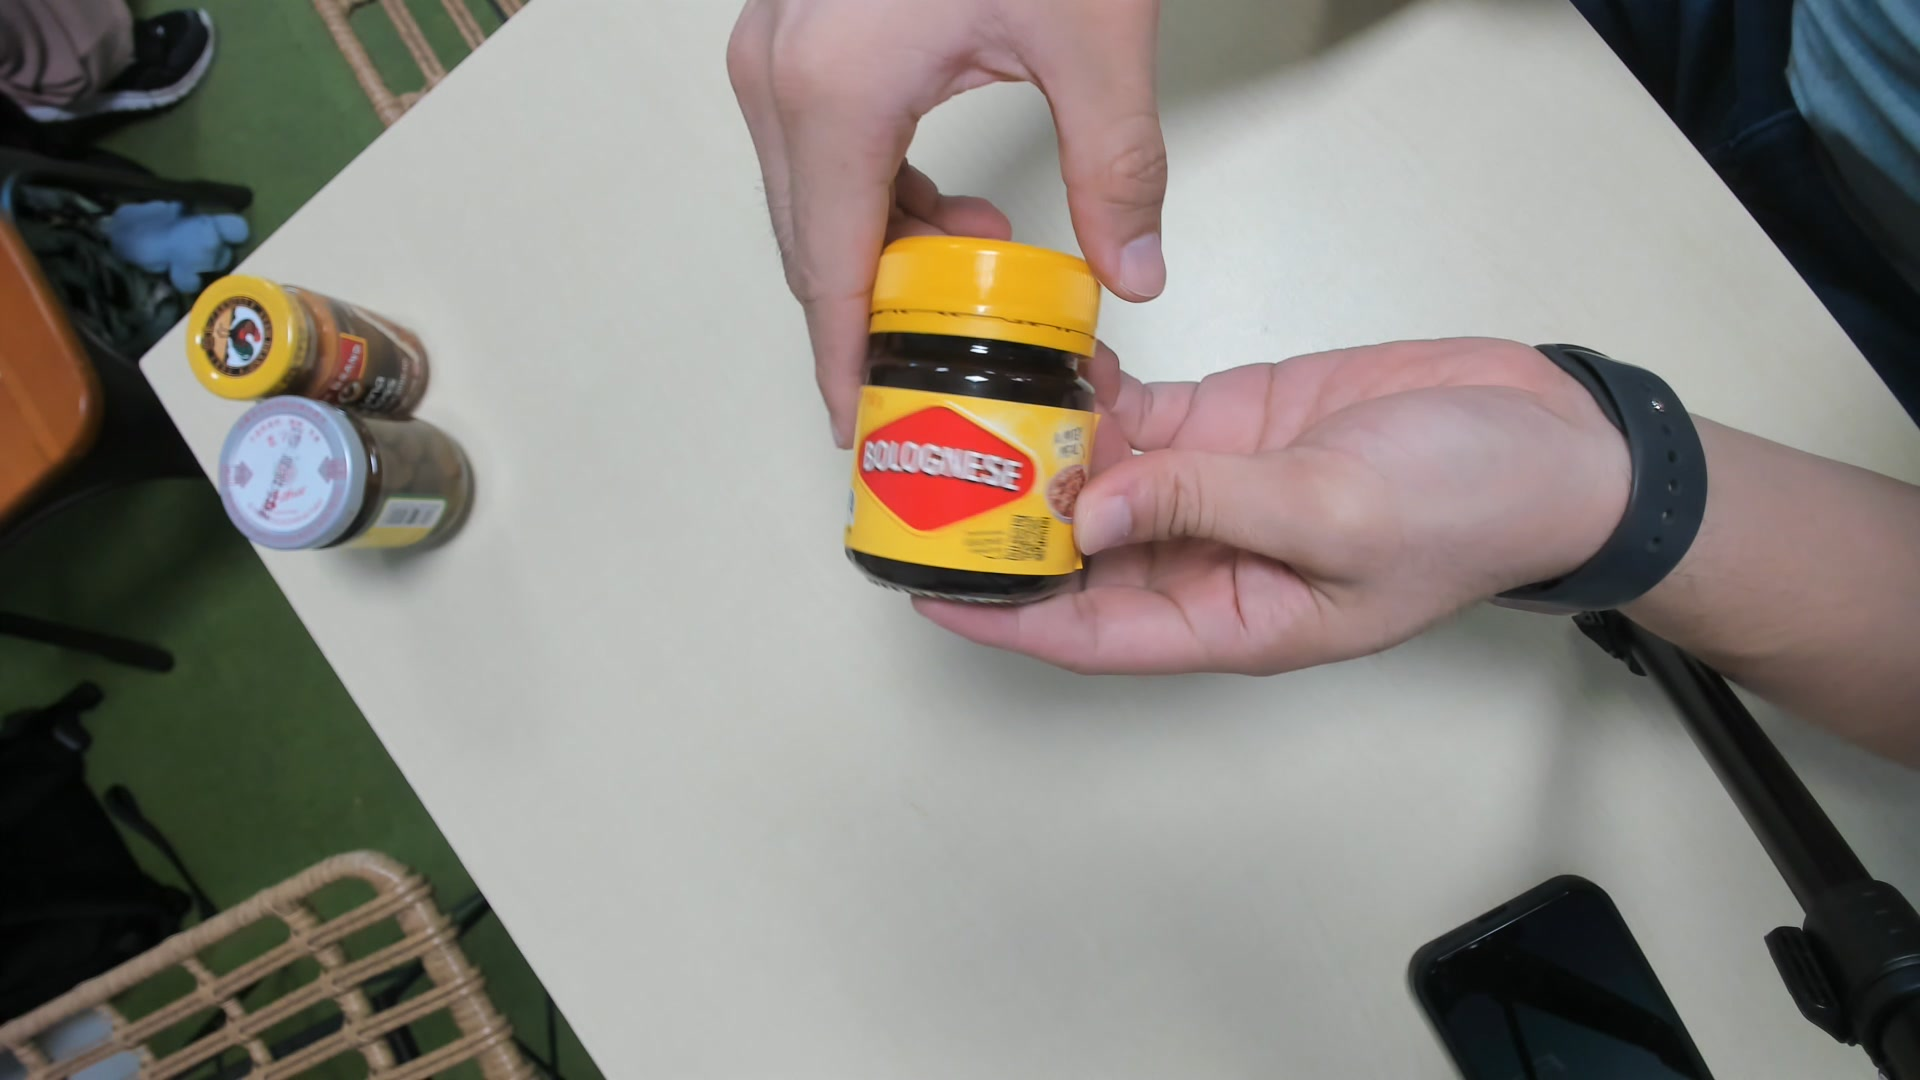OtherSauceDressing_200-299g_Halal_NonHealthy: (843, 235, 1108, 615)
